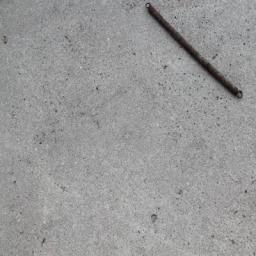FOD: (144, 2, 246, 101)
